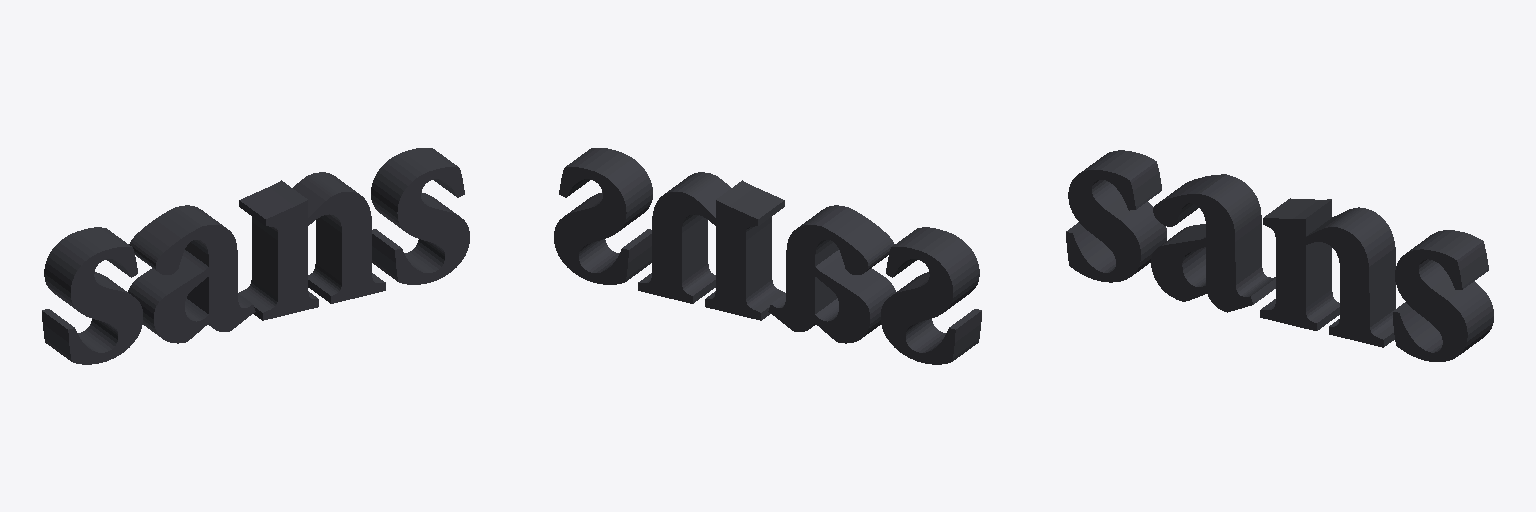
File: sans.obj
3 views of the same model, side by side, from view 1: azimuth 30°, elevation 25°; view 2: azimuth 150°, elevation 25°; view 3: azimuth 330°, elevation 25° (orthographic).
Parts seen in each view (by area): view 1: sans; view 2: sans; view 3: sans.
Part boxes in pixels (left/top/right/bottom): sans: left=42, top=148, right=469, bottom=364; sans: left=554, top=148, right=981, bottom=364; sans: left=1066, top=150, right=1493, bottom=361.
Bounding box in the file's own units: 87.68 × 23.53 × 10.